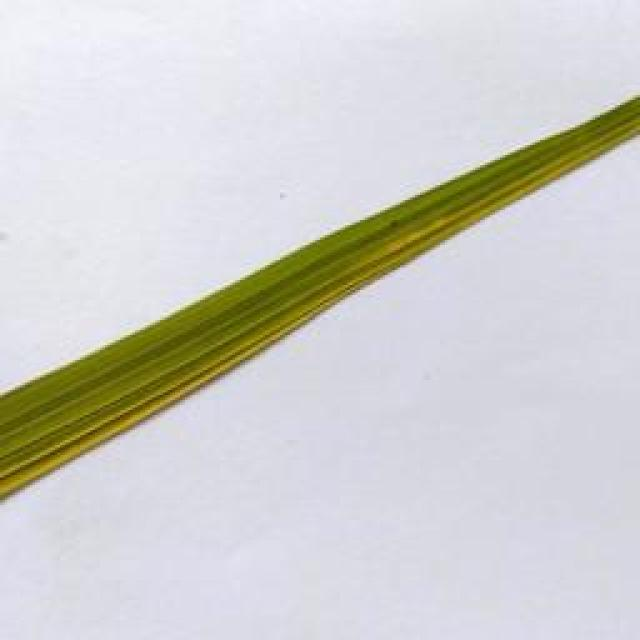Bacterial_Blight: (0, 114, 640, 508)
